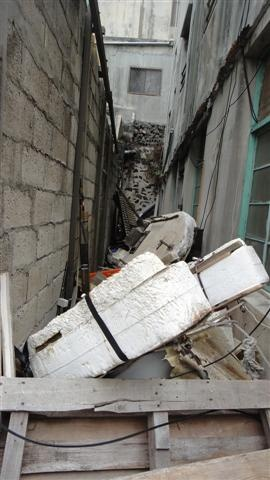styrofoam: (26, 250, 210, 377)
